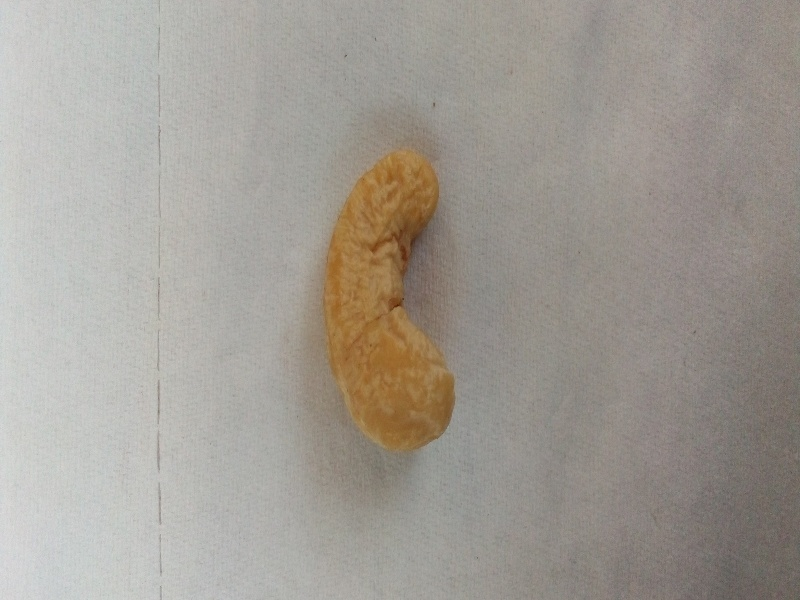cashew: (300, 126, 504, 472)
